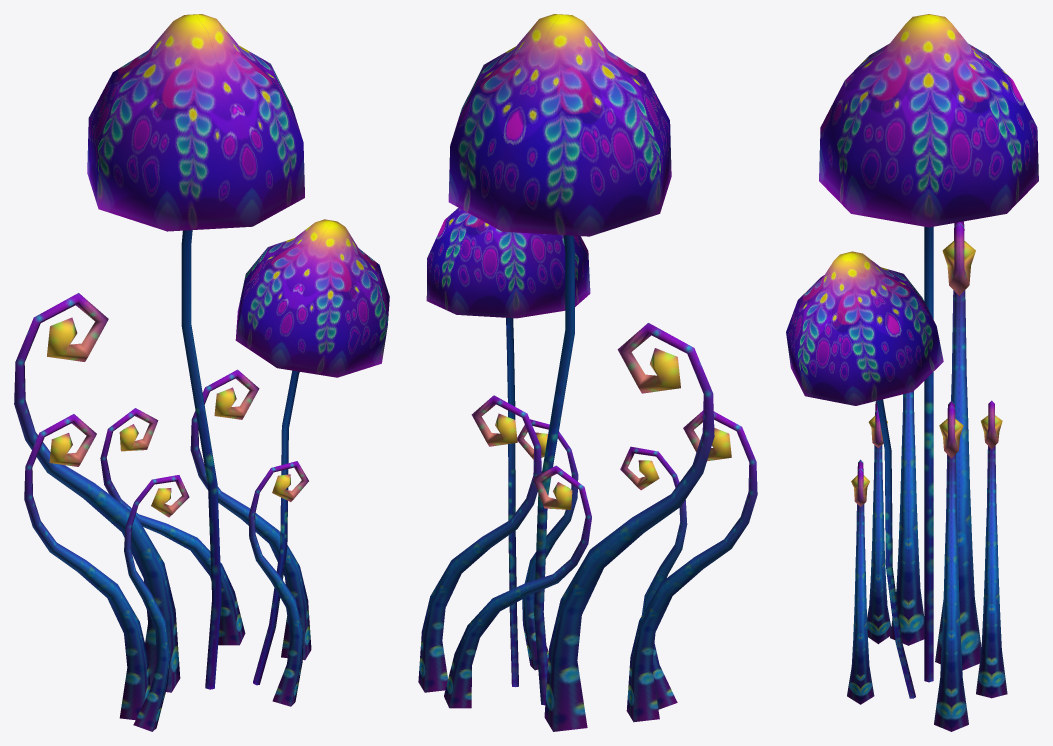
The model's file is Mushroom_04c.FBX.
The picture shows the model from 3 angles, left to right: view 1: azimuth 30°, elevation 25°; view 2: azimuth 150°, elevation 25°; view 3: azimuth 270°, elevation 25°; orthographic projection. The views are drawn at different scales.
Visible parts, largest first — view 1: Mushroom_04c; view 2: Mushroom_04c; view 3: Mushroom_04c.
Boxes of the visible parts, bbox=[...] form: Mushroom_04c: bbox=[14, 14, 389, 731]; Mushroom_04c: bbox=[418, 14, 757, 731]; Mushroom_04c: bbox=[786, 14, 1038, 731].
Size of the model in its own units: 178 by 344 by 120.
